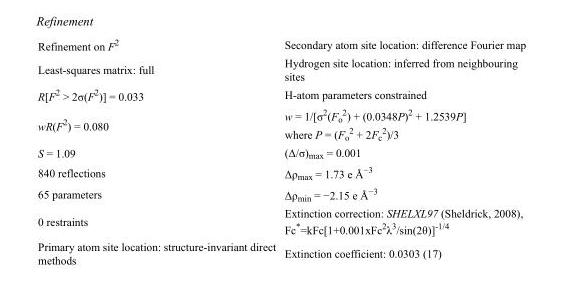table: (37, 36, 525, 266)
table column: (279, 36, 525, 266), (37, 36, 279, 266)
table row: (37, 104, 525, 143), (37, 204, 525, 237), (37, 54, 525, 84), (37, 237, 525, 266), (37, 162, 525, 183), (37, 183, 525, 204), (37, 84, 525, 104), (37, 143, 525, 162), (37, 36, 525, 54)
